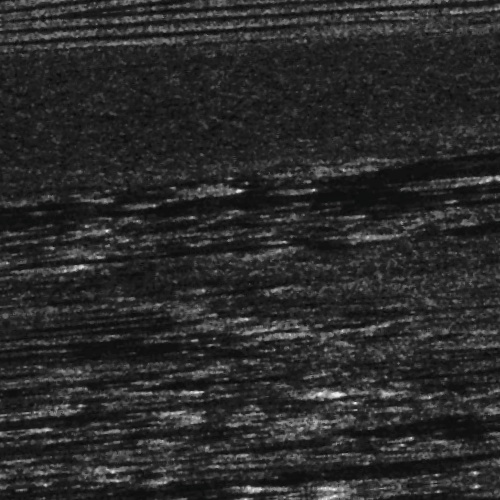object: (38, 391, 257, 412), (4, 485, 129, 496), (226, 490, 361, 500), (0, 383, 80, 398), (112, 361, 205, 372), (328, 237, 401, 250), (0, 345, 75, 356), (409, 191, 500, 200), (290, 390, 363, 401), (0, 242, 80, 251), (447, 474, 500, 485), (0, 470, 37, 481), (322, 221, 395, 226), (187, 312, 260, 317), (284, 373, 325, 378), (84, 181, 125, 186), (149, 298, 190, 303), (219, 185, 250, 188), (311, 445, 342, 448)
shadow: (146, 178, 500, 195), (0, 474, 488, 485), (0, 237, 364, 250), (0, 390, 326, 401), (0, 391, 147, 412), (422, 204, 500, 235), (85, 490, 293, 500), (19, 361, 158, 372), (21, 312, 223, 317), (419, 383, 500, 392), (0, 185, 234, 188), (33, 298, 169, 303), (170, 373, 304, 378), (230, 221, 358, 226), (399, 191, 462, 200), (0, 181, 104, 186), (443, 444, 500, 453), (193, 445, 326, 448), (0, 345, 34, 356), (0, 383, 22, 398), (0, 242, 34, 251)
